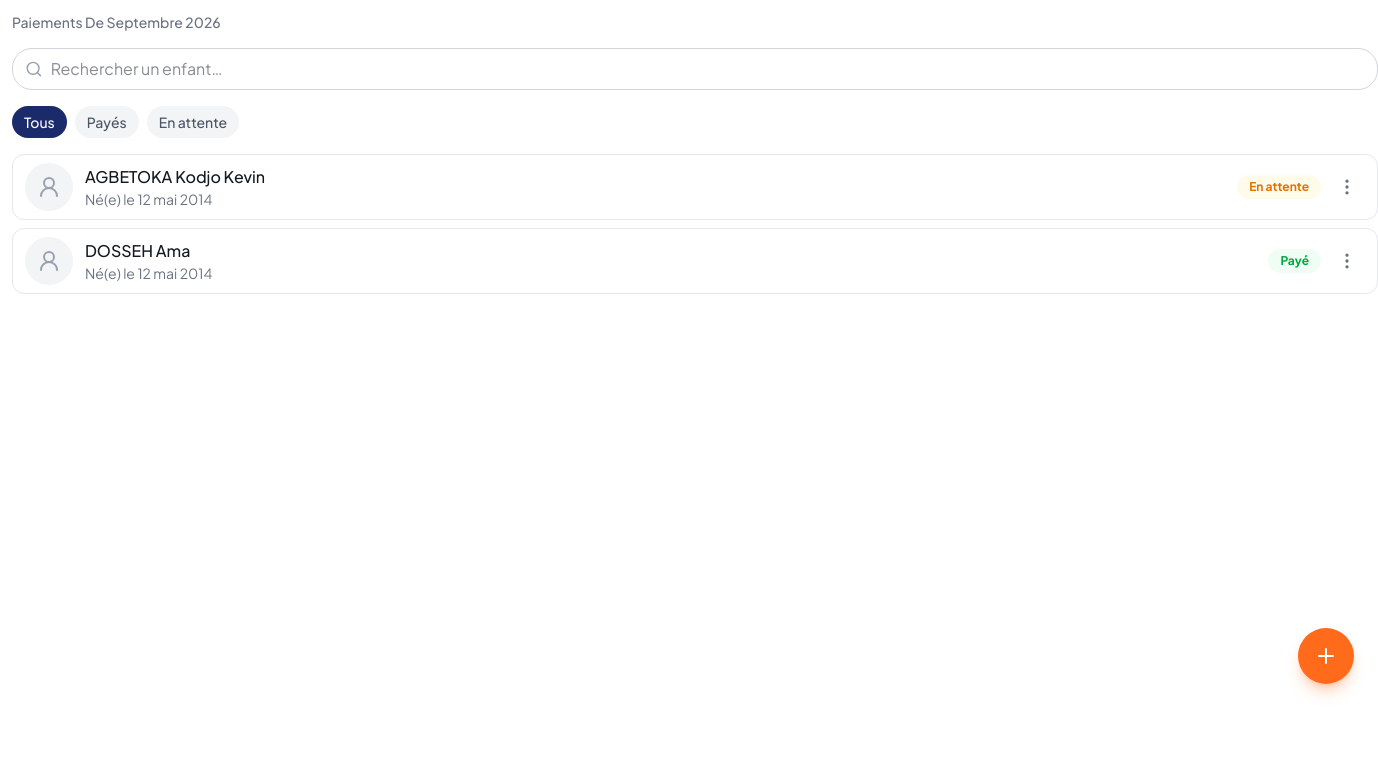
it: PlayerList › filtre par statut via les onglets
The width and height of the screenshot is (1378, 780).
Click the tab "Payés" at x=107, y=122, box [75,106,139,138]
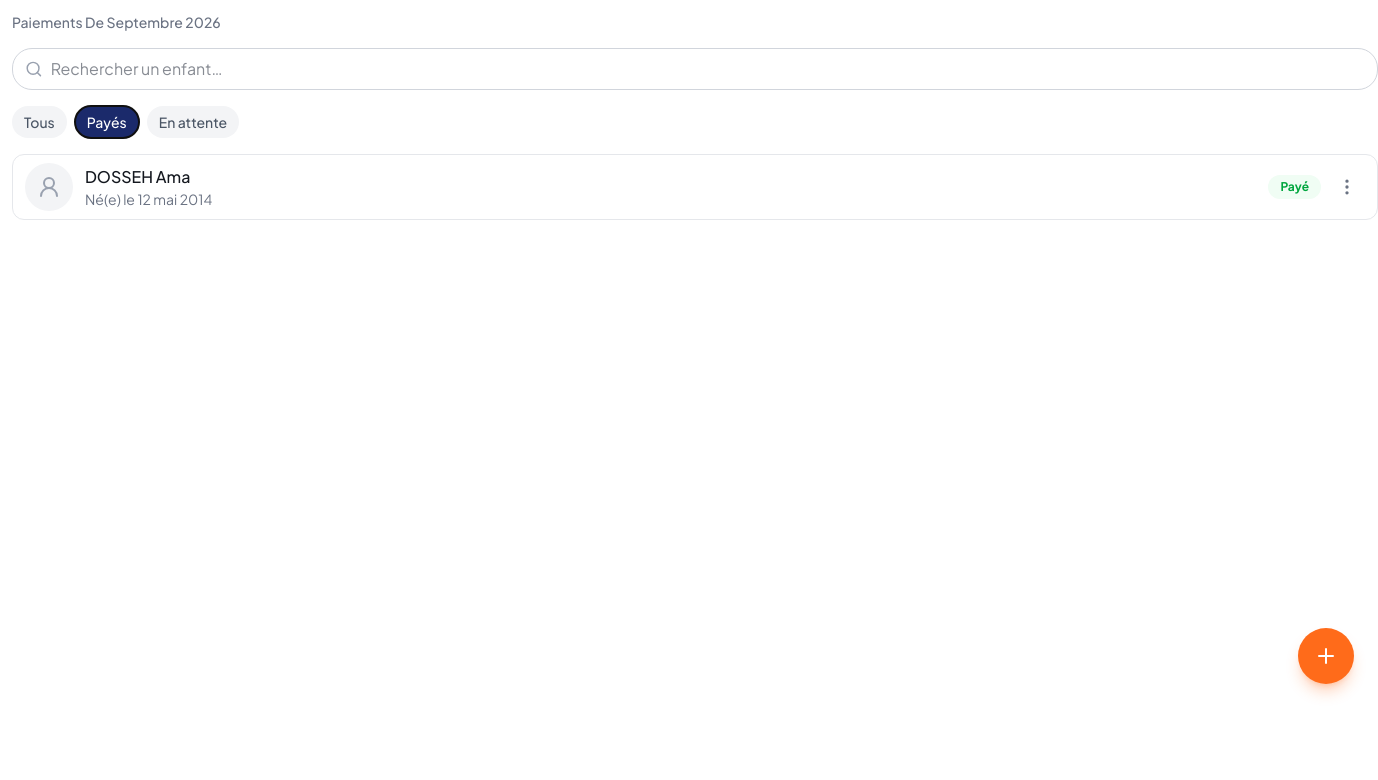
Check: the text "DOSSEH Ama" is shown, box [85,166,190,187]
Check: the link "AGBETOKA Kodjo Kevin" is gone
Click the tab "En attente" at x=193, y=122, box [147,106,239,138]
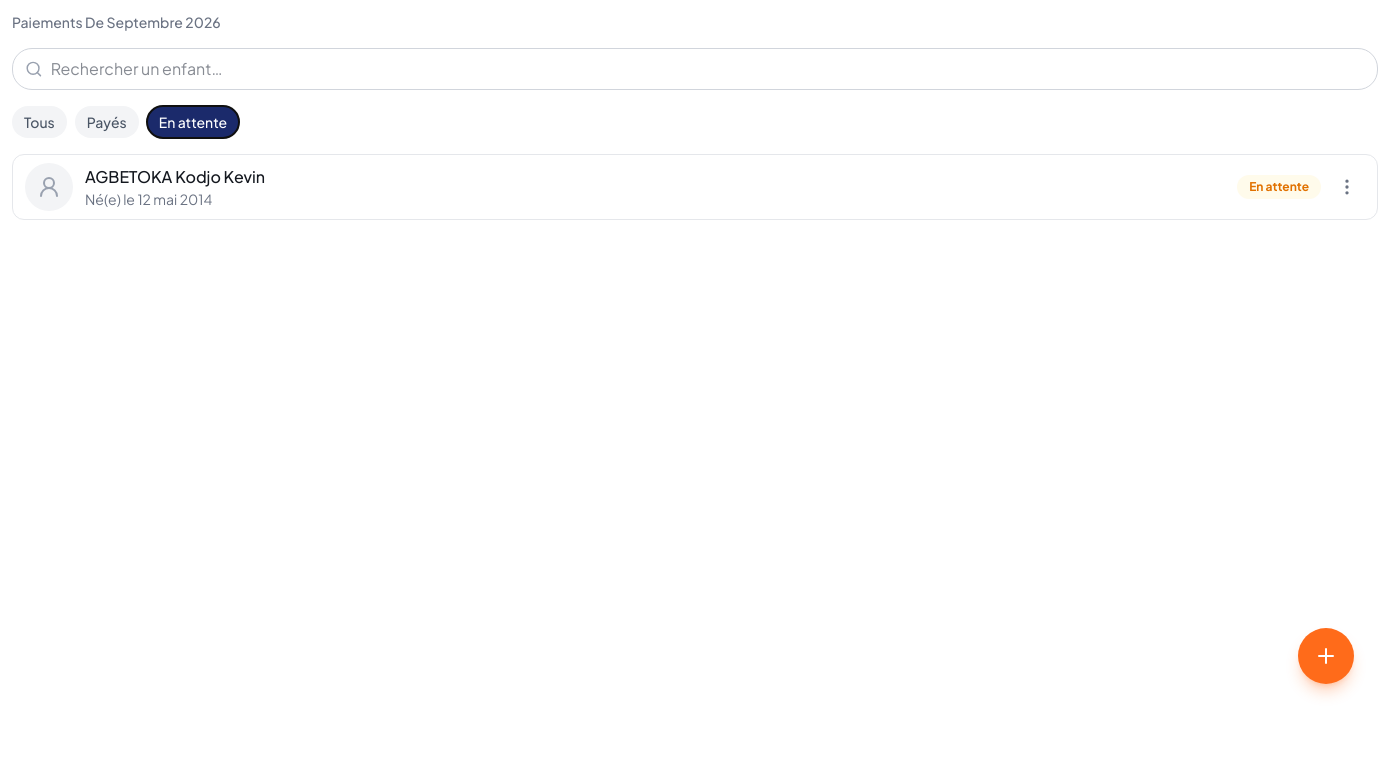
Check: the text "AGBETOKA Kodjo Kevin" is shown, box [85,165,265,189]
Check: the link "DOSSEH Ama" is gone
Click the tab "Tous" at x=39, y=122, box [12,106,67,138]
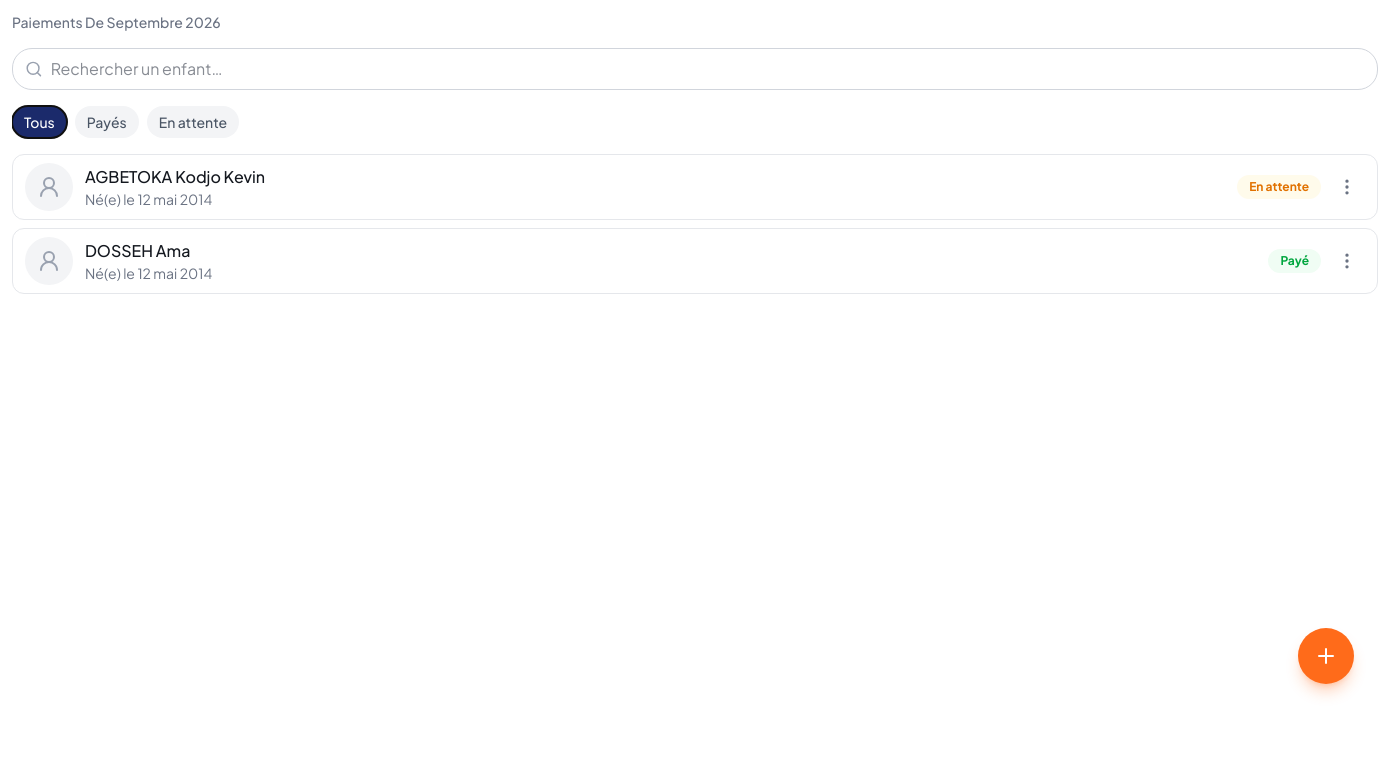
Check: the text "AGBETOKA Kodjo Kevin" is shown, box [85,165,265,189]
Check: the text "DOSSEH Ama" is shown, box [85,240,190,261]
